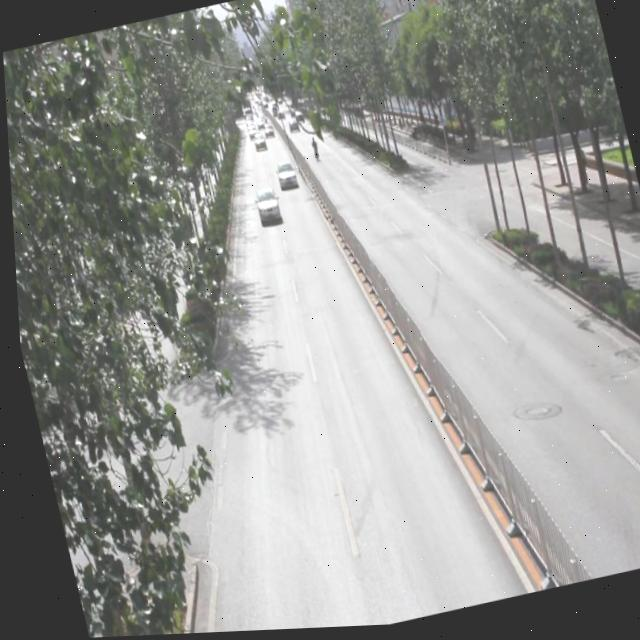car: (250, 188, 278, 225), (271, 161, 294, 189)
